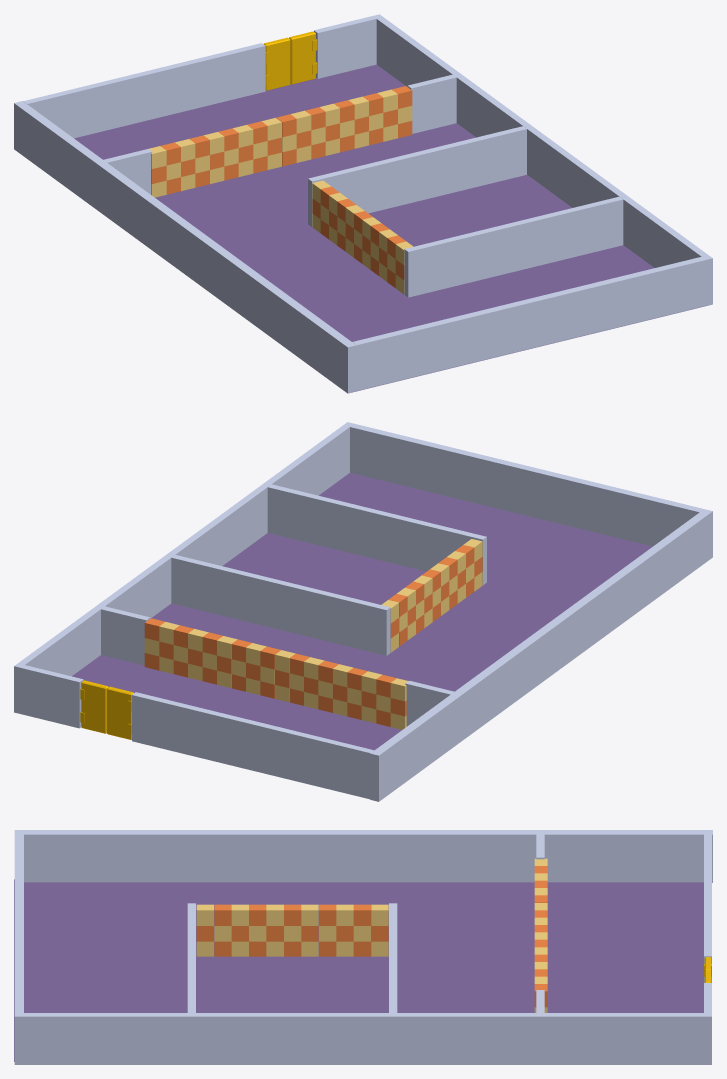
The model's file is maps42.fbx.
The picture shows the model from 3 angles, top to bottom: view 1: azimuth 30°, elevation 25°; view 2: azimuth 150°, elevation 25°; view 3: azimuth 270°, elevation 25°; orthographic projection. The views are drawn at different scales.
Visible parts, largest first — view 1: wall_01_08_geo, wall_01_07_geo, wall_01_05_geo, wall_01_06_geo1, wall_01_09_geo5, wall_01_09_geo, wall_01_09_geo8, wall_01_09_geo7, wall_01_09_geo6, polySurface165, polySurface161, wall_01_09_geo9; view 2: wall_01_08_geo, wall_01_07_geo, wall_01_05_geo, wall_01_06_geo1, wall_01_09_geo, wall_01_09_geo8, wall_01_09_geo5, wall_01_09_geo7, wall_01_09_geo6, polySurface165, polySurface161, wall_01_09_geo9; view 3: wall_01_08_geo, wall_01_06_geo1, wall_01_07_geo, wall_01_05_geo, wall_01_09_geo, wall_01_09_geo5, wall_01_09_geo8, wall_02_0106_geo, wall_02_0114_geo, wall_02_0120_geo, wall_02_0129_geo, wall_02_0135_geo (+6 smaller).
Part boxes in pixels (bbox=[...]): wall_01_08_geo: bbox=[74, 64, 707, 392]; wall_01_07_geo: bbox=[14, 101, 356, 393]; wall_01_05_geo: bbox=[352, 257, 705, 391]; wall_01_06_geo1: bbox=[373, 14, 712, 305]; wall_01_09_geo5: bbox=[404, 196, 623, 297]; wall_01_09_geo: bbox=[23, 43, 265, 138]; wall_01_09_geo8: bbox=[308, 126, 526, 226]; wall_01_09_geo7: bbox=[314, 16, 376, 78]; wall_01_09_geo6: bbox=[407, 74, 456, 133]; polySurface165: bbox=[289, 31, 317, 84]; polySurface161: bbox=[263, 37, 290, 90]; wall_01_09_geo9: bbox=[103, 149, 152, 194]; wall_01_08_geo: bbox=[72, 473, 652, 750]; wall_01_07_geo: bbox=[370, 509, 712, 801]; wall_01_05_geo: bbox=[350, 423, 703, 546]; wall_01_06_geo1: bbox=[14, 422, 353, 713]; wall_01_09_geo: bbox=[132, 692, 373, 799]; wall_01_09_geo8: bbox=[171, 555, 390, 655]; wall_01_09_geo5: bbox=[267, 484, 486, 584]; wall_01_09_geo7: bbox=[20, 665, 83, 728]; wall_01_09_geo6: bbox=[101, 606, 150, 665]; polySurface165: bbox=[80, 680, 108, 733]; polySurface161: bbox=[107, 686, 133, 739]; wall_01_09_geo9: bbox=[405, 680, 454, 726]; wall_01_08_geo: bbox=[14, 879, 703, 1061]; wall_01_06_geo1: bbox=[14, 1013, 711, 1064]; wall_01_07_geo: bbox=[14, 830, 712, 882]; wall_01_05_geo: bbox=[14, 834, 23, 1012]; wall_01_09_geo: bbox=[704, 834, 711, 982]; wall_01_09_geo5: bbox=[187, 903, 195, 1012]; wall_01_09_geo8: bbox=[389, 903, 397, 1012]; wall_02_0106_geo: bbox=[214, 904, 231, 925]; wall_02_0114_geo: bbox=[336, 904, 353, 925]; wall_02_0120_geo: bbox=[371, 904, 388, 925]; wall_02_0129_geo: bbox=[301, 904, 318, 925]; wall_02_0135_geo: bbox=[266, 904, 283, 925].
Bounding box in the file's own units: 73.34 × 8.96 × 116.
3 materials, 3 textured.
